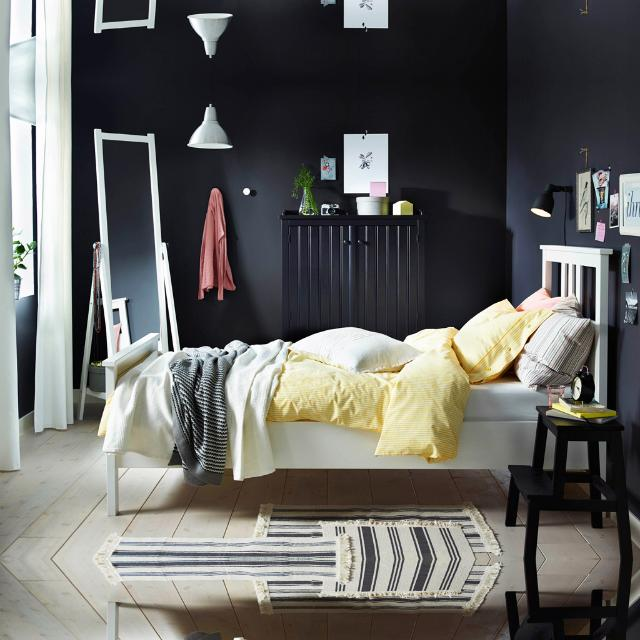bed: (100, 245, 610, 514)
clock: (571, 365, 595, 402)
curtain: (35, 80, 74, 431), (0, 80, 20, 469), (35, 0, 71, 80)
dresser: (281, 215, 425, 339)
lamp: (531, 182, 572, 216)
light: (188, 80, 232, 148), (188, 12, 232, 80)
pillow: (452, 299, 554, 382), (290, 326, 420, 372)
rug: (95, 501, 501, 558), (95, 559, 501, 615)
stool: (505, 405, 632, 558), (505, 559, 632, 640)
wall-art: (344, 132, 389, 192), (344, 0, 389, 28), (620, 173, 640, 235), (576, 168, 592, 231), (591, 168, 609, 208), (624, 291, 638, 323), (621, 242, 631, 282), (609, 191, 619, 227), (321, 155, 336, 178), (595, 221, 605, 241)
